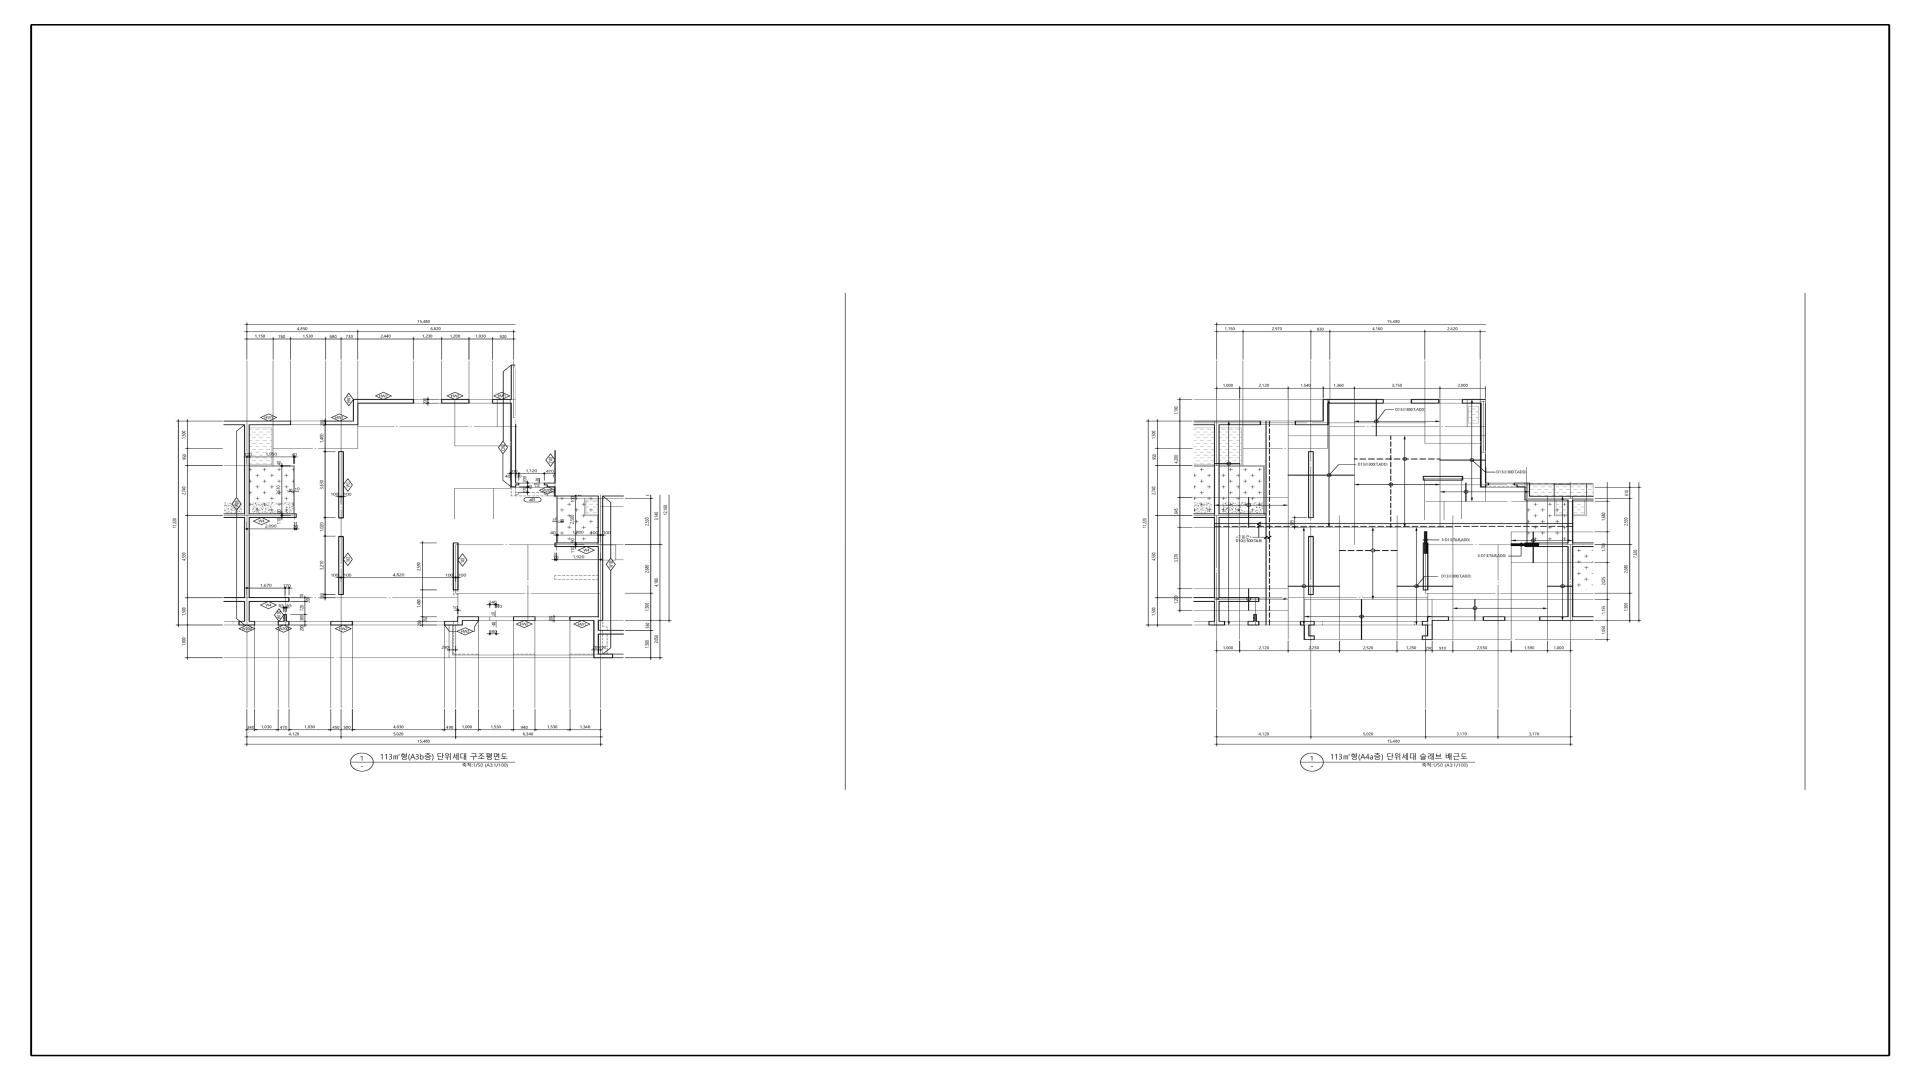wall: (1270, 524, 1573, 526), (1480, 404, 1486, 487), (244, 425, 249, 513), (1215, 425, 1220, 513), (244, 518, 249, 597), (510, 425, 517, 487), (1266, 421, 1270, 524), (1266, 526, 1270, 625), (1215, 526, 1220, 597), (597, 547, 603, 617), (1568, 547, 1573, 617), (339, 451, 344, 518), (1308, 451, 1313, 518), (452, 542, 459, 591), (597, 496, 604, 543), (339, 537, 344, 595), (1308, 537, 1313, 595), (249, 513, 297, 518), (1220, 513, 1266, 518), (353, 400, 414, 404), (1328, 400, 1383, 404), (1423, 476, 1464, 481), (1220, 597, 1259, 603), (1423, 554, 1428, 591), (555, 543, 604, 547), (510, 365, 516, 400), (570, 616, 603, 621), (249, 421, 291, 425), (249, 597, 290, 601), (1220, 421, 1261, 425), (1539, 616, 1568, 621), (1539, 542, 1568, 547), (1530, 496, 1568, 500), (1215, 524, 1270, 526), (1295, 421, 1328, 425), (1568, 500, 1573, 524), (593, 630, 624, 634), (513, 616, 535, 621), (1427, 616, 1449, 621), (324, 421, 353, 425), (1411, 400, 1440, 404), (223, 597, 244, 603), (510, 404, 516, 425), (353, 404, 359, 425), (1323, 400, 1328, 421), (1573, 496, 1594, 501), (1573, 616, 1594, 621), (1573, 542, 1594, 547), (1193, 513, 1215, 518), (442, 400, 469, 404), (224, 513, 244, 518), (244, 601, 249, 621), (593, 634, 599, 654), (1215, 601, 1220, 621), (1427, 621, 1432, 640), (1462, 400, 1486, 404), (1482, 617, 1506, 621), (1524, 483, 1530, 500), (331, 621, 353, 625), (463, 616, 479, 621), (1193, 421, 1215, 425), (1568, 526, 1573, 542), (1193, 597, 1215, 601), (224, 421, 244, 425), (593, 654, 613, 658), (1304, 625, 1309, 640), (444, 621, 463, 625), (492, 400, 510, 404), (239, 621, 255, 625), (1423, 542, 1428, 554), (1209, 621, 1225, 625), (1524, 543, 1539, 547), (1300, 621, 1315, 625), (593, 621, 599, 630), (278, 621, 290, 625), (543, 483, 555, 487), (1247, 621, 1259, 625), (1514, 483, 1524, 487), (1511, 543, 1524, 546), (1424, 531, 1427, 543), (244, 513, 249, 518), (244, 597, 249, 603), (458, 616, 463, 621), (1568, 616, 1573, 621), (1568, 542, 1573, 547), (1215, 518, 1220, 524), (1215, 513, 1220, 518), (1215, 597, 1220, 603), (284, 615, 287, 621), (1253, 615, 1257, 621), (510, 400, 516, 404), (244, 421, 249, 425), (1215, 421, 1220, 425), (1568, 496, 1573, 500), (1422, 621, 1427, 625), (1422, 636, 1427, 640), (1309, 636, 1315, 640), (516, 483, 520, 485), (1486, 483, 1489, 485)
